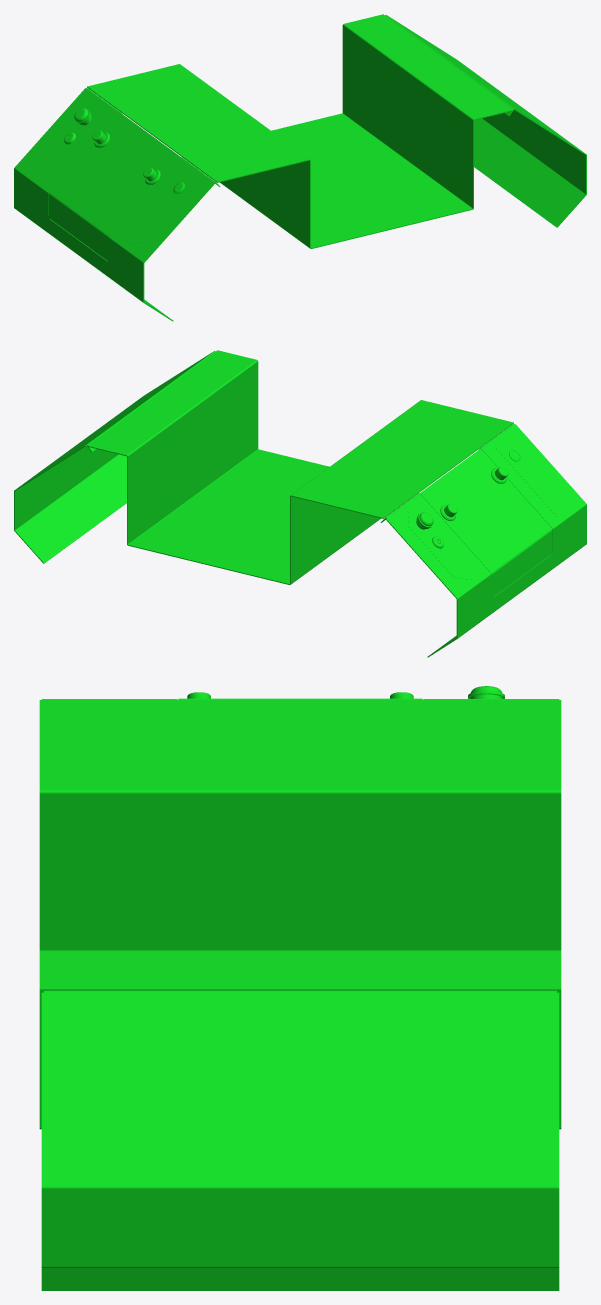
The model's file is top_chassis.dae.
3 views of the same model, one above another, from view 1: azimuth 30°, elevation 25°; view 2: azimuth 150°, elevation 25°; view 3: azimuth 270°, elevation 25° (orthographic). The views are drawn at different scales.
Visible parts, largest first — view 1: Top_Chassis; view 2: Top_Chassis; view 3: Top_Chassis.
Part boxes in pixels (x1,y1,x2,y2): Top_Chassis: [14, 14, 586, 321]; Top_Chassis: [14, 350, 586, 657]; Top_Chassis: [39, 686, 561, 1290].
Size of the model in its own units: 0.812 by 0.4137 by 0.2264.
